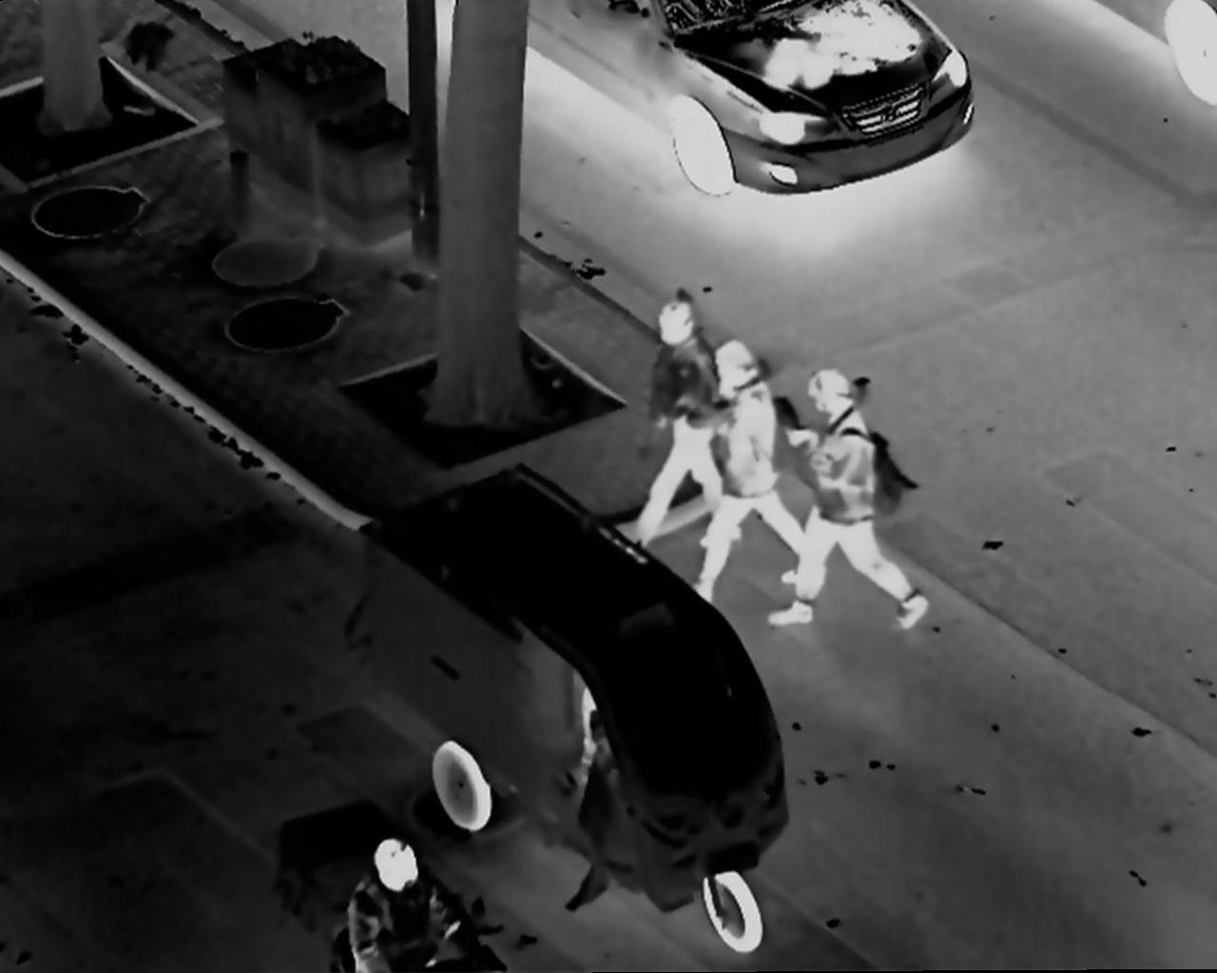person: (782, 365, 942, 635), (698, 338, 801, 597), (638, 286, 723, 557), (341, 827, 457, 973)
